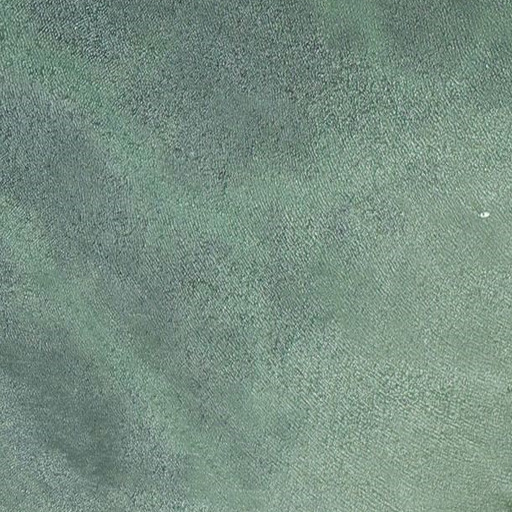ship: (477, 210, 491, 221)
